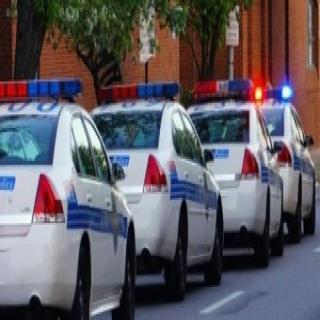Police_car: (0, 71, 140, 320), (86, 75, 228, 305), (177, 70, 287, 276), (252, 76, 318, 244)
